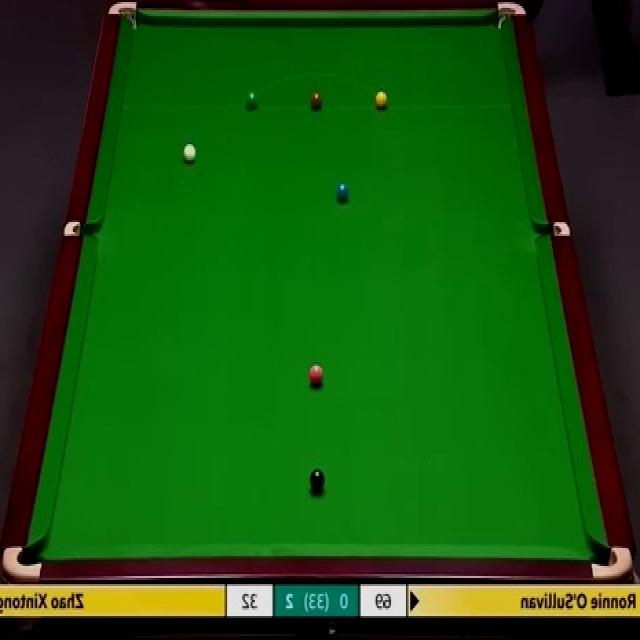black-ball: (309, 467, 326, 493)
blue-ball: (335, 182, 349, 204)
brown-ball: (309, 88, 324, 110)
green-ball: (245, 90, 260, 110)
pink-ball: (309, 363, 325, 386)
white-ball: (184, 143, 198, 165)
yellow-ball: (375, 88, 388, 109)
